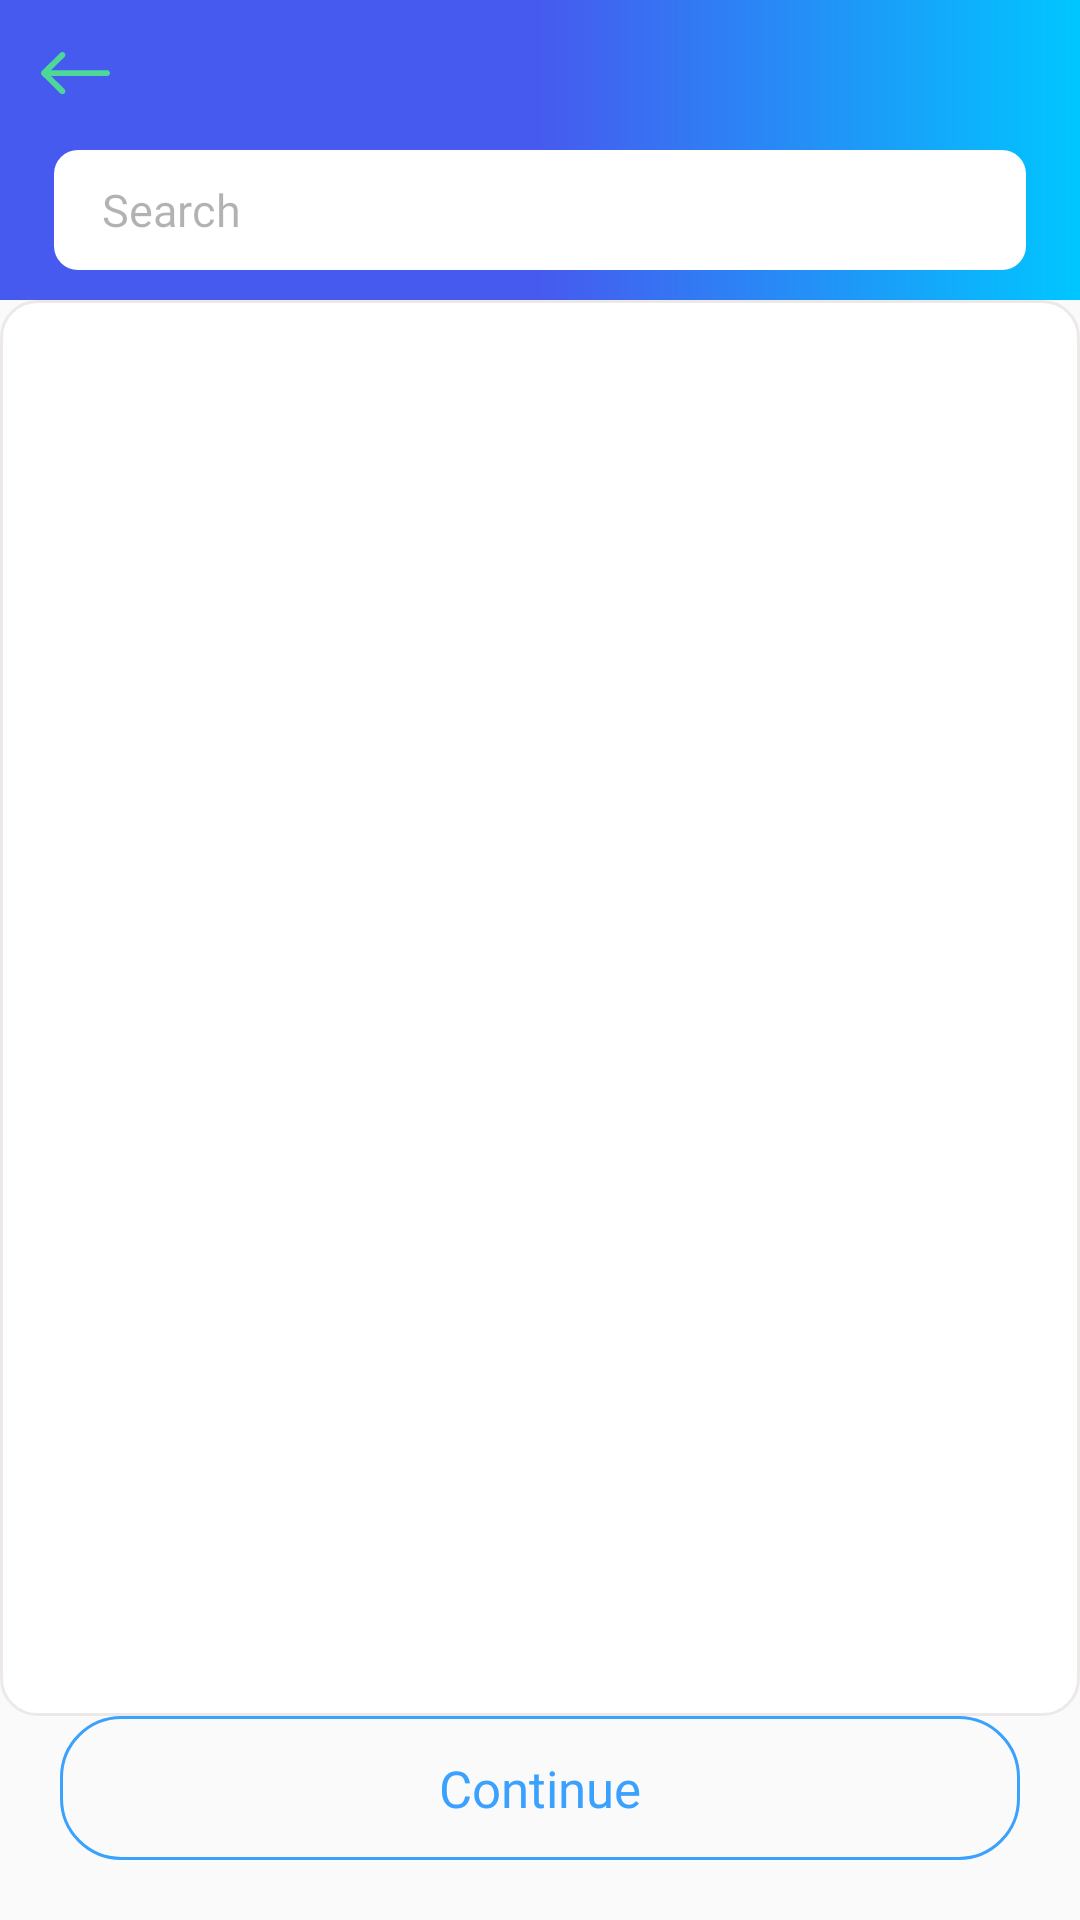

Icon click points for this 1080*1920 phone screenshot, format (x,y):
arrow back: (75,73)
